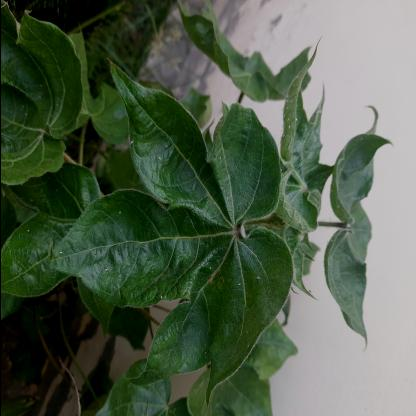curl_stage1: (249, 342, 276, 385)
curl_stage2: (322, 227, 366, 333), (54, 25, 90, 123), (277, 62, 306, 158), (329, 137, 363, 215), (123, 71, 150, 165), (291, 202, 309, 277)
healthy: (211, 225, 264, 313), (105, 198, 156, 254), (229, 119, 261, 203), (170, 123, 204, 201), (17, 225, 47, 290)
